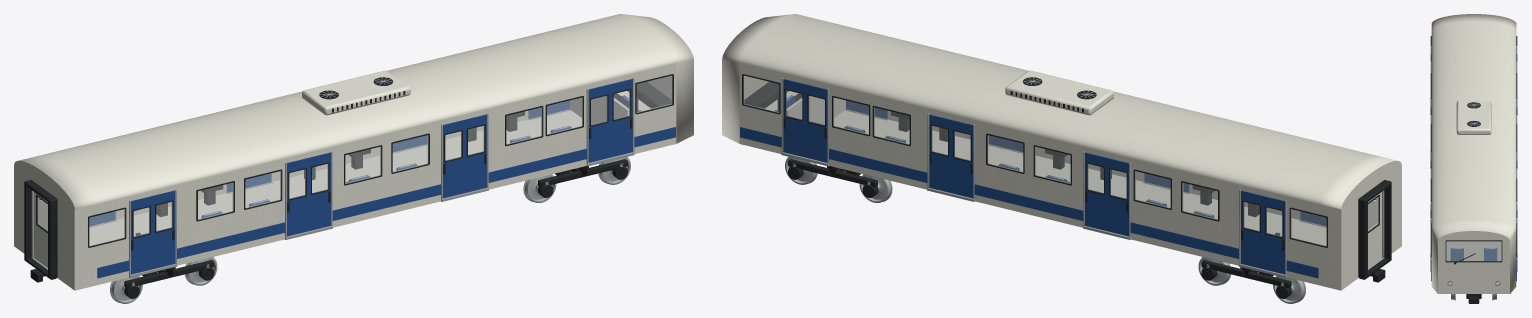
File: metro-car.glb
3 views of the same model, side by side, from view 1: azimuth 30°, elevation 25°; view 2: azimuth 150°, elevation 25°; view 3: azimuth 270°, elevation 25° (orthographic). The views are drawn at different scales.
Parts seen in each view (by area): view 1: Metro continuous hollow bodyshell, Metro recessed lower colour belt -1, Metro rounded air conditioner, Metro rear finite end gangway surround, Metro closed sliding door -1 1 1, Metro closed sliding door -1 2 1, Metro closed sliding door -1 3 1, Metro closed sliding door -1 3 -1, Metro closed sliding door -1 0 1, Metro closed sliding door -1 0 -1, Metro closed sliding door -1 1 -1, Metro closed sliding door -1 2 -1 (+16 smaller); view 2: Metro continuous hollow bodyshell, Metro recessed lower colour belt 1, Metro rounded air conditioner, Metro rear finite end gangway surround, Metro closed sliding door 1 1 1, Metro closed sliding door 1 2 1, Metro closed sliding door 1 3 1, Metro closed sliding door 1 3 -1, Metro closed sliding door 1 0 1, Metro closed sliding door 1 0 -1, Metro closed sliding door 1 1 -1, Metro closed sliding door 1 2 -1 (+16 smaller); view 3: Metro continuous hollow bodyshell, Metro front cab finite windscreen, Metro rounded air conditioner, Metro front cab lower cab partition, Metro front cab windscreen continuous seal, Metro front cab cab rounded seat back 0 1, Metro front cab cab rounded seat back 0 -1, Metro end 1 automatic coupling head, Metro fan guard rim -800.0.
Part boxes in pixels (bbox=[...]): Metro continuous hollow bodyshell: bbox=[14, 14, 693, 290]; Metro recessed lower colour belt -1: bbox=[97, 127, 675, 278]; Metro rounded air conditioner: bbox=[302, 70, 410, 115]; Metro rear finite end gangway surround: bbox=[24, 180, 57, 279]; Metro closed sliding door -1 1 1: bbox=[308, 152, 330, 230]; Metro closed sliding door -1 2 1: bbox=[464, 114, 486, 192]; Metro closed sliding door -1 3 1: bbox=[610, 79, 632, 157]; Metro closed sliding door -1 3 -1: bbox=[588, 84, 610, 162]; Metro closed sliding door -1 0 1: bbox=[152, 190, 174, 268]; Metro closed sliding door -1 0 -1: bbox=[131, 196, 152, 274]; Metro closed sliding door -1 1 -1: bbox=[287, 158, 308, 236]; Metro closed sliding door -1 2 -1: bbox=[443, 120, 464, 198]; Metro continuous hollow bodyshell: bbox=[722, 14, 1401, 290]; Metro recessed lower colour belt 1: bbox=[740, 127, 1318, 278]; Metro rounded air conditioner: bbox=[1005, 70, 1113, 115]; Metro rear finite end gangway surround: bbox=[1358, 180, 1391, 279]; Metro closed sliding door 1 1 1: bbox=[1085, 152, 1107, 230]; Metro closed sliding door 1 2 1: bbox=[929, 114, 951, 192]; Metro closed sliding door 1 3 1: bbox=[783, 79, 805, 157]; Metro closed sliding door 1 3 -1: bbox=[805, 84, 827, 162]; Metro closed sliding door 1 0 1: bbox=[1241, 190, 1263, 268]; Metro closed sliding door 1 0 -1: bbox=[1263, 196, 1284, 274]; Metro closed sliding door 1 1 -1: bbox=[1107, 158, 1128, 236]; Metro closed sliding door 1 2 -1: bbox=[951, 120, 972, 198]; Metro continuous hollow bodyshell: bbox=[1431, 14, 1516, 293]; Metro front cab finite windscreen: bbox=[1446, 241, 1501, 260]; Metro rounded air conditioner: bbox=[1456, 101, 1491, 134]; Metro front cab lower cab partition: bbox=[1446, 241, 1501, 260]; Metro front cab windscreen continuous seal: bbox=[1445, 240, 1502, 262]; Metro front cab cab rounded seat back 0 1: bbox=[1484, 248, 1497, 260]; Metro front cab cab rounded seat back 0 -1: bbox=[1450, 248, 1463, 260]; Metro end 1 automatic coupling head: bbox=[1468, 296, 1479, 303]; Metro fan guard rim -800.0: bbox=[1467, 102, 1480, 108].
Size of the model in its own units: 19 by 4.1 by 3.19.
8 materials, 8 textured.
